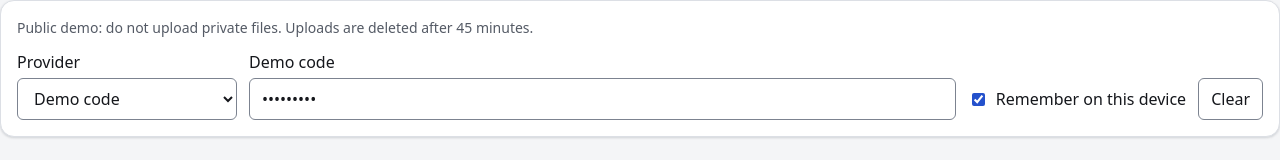
Scenario: KeyPanel › switching preset saves the new choice and shows that preset’s saved key
This screenshot has width=1280, height=160.
Expected: the password field labelled "Demo code" holds "demo-code", x1=249 y1=78 x2=956 y2=120
Select "OpenAI" in the dropdown labelled "Provider" at (127,99), box x1=17 y1=78 x2=237 y2=120
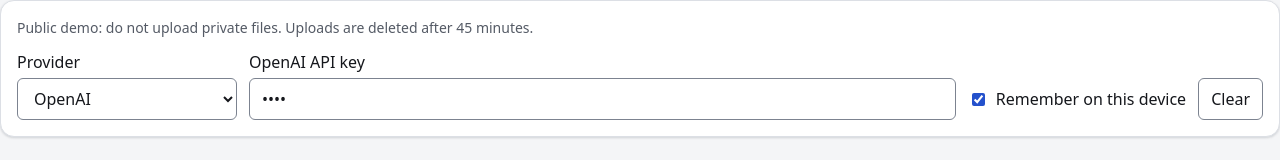
Now the password field labelled "OpenAI API key" holds "sk-k", box x1=249 y1=78 x2=956 y2=120
Select "Demo code" in the dropdown labelled "Provider" at (127,99), box x1=17 y1=78 x2=237 y2=120
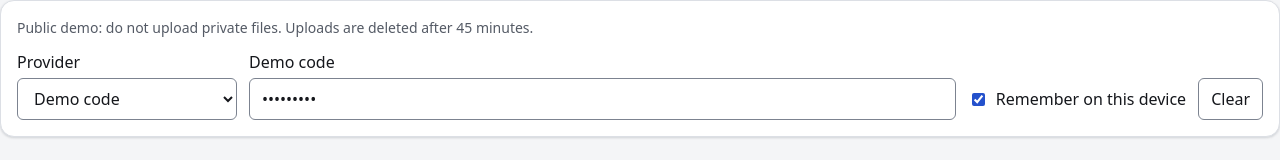
Now the password field labelled "Demo code" holds "demo-code", box x1=249 y1=78 x2=956 y2=120
